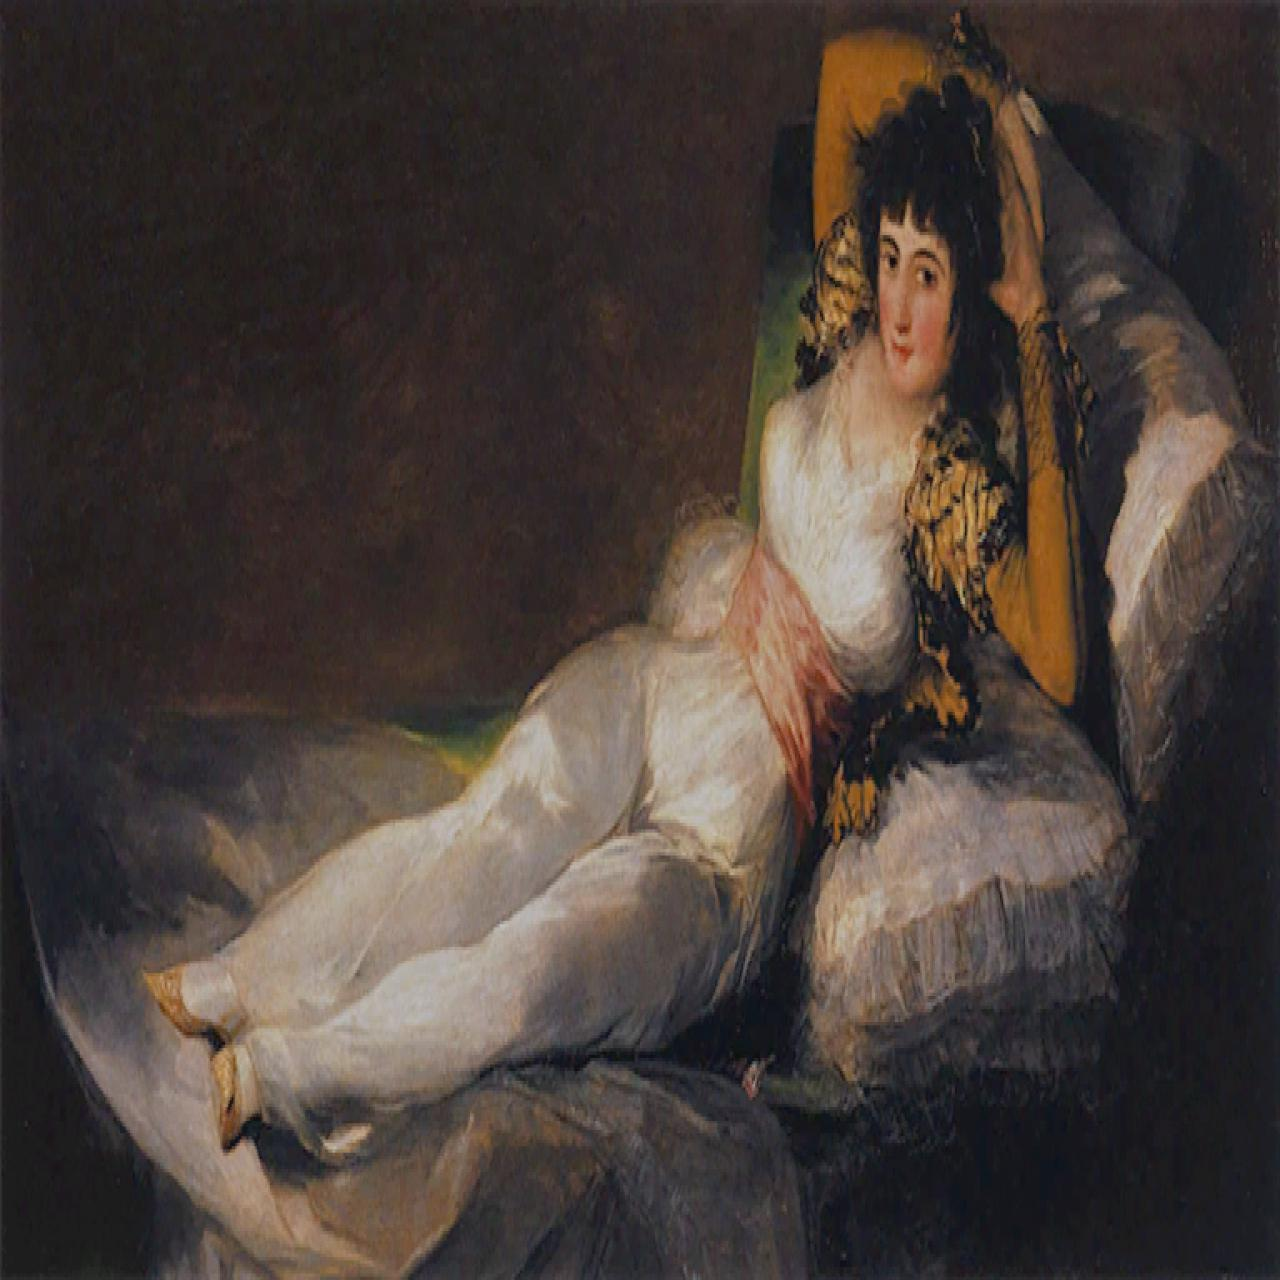ClothedMaja: (1, 1, 1280, 1278)
